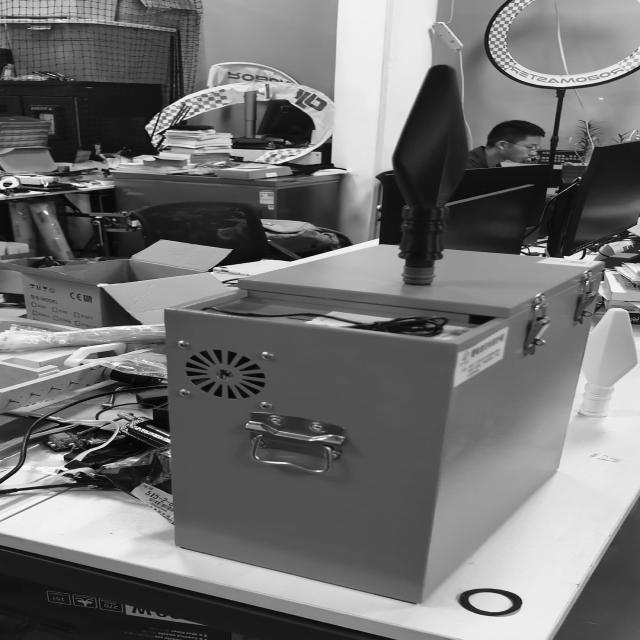base: (403, 266, 436, 286)
